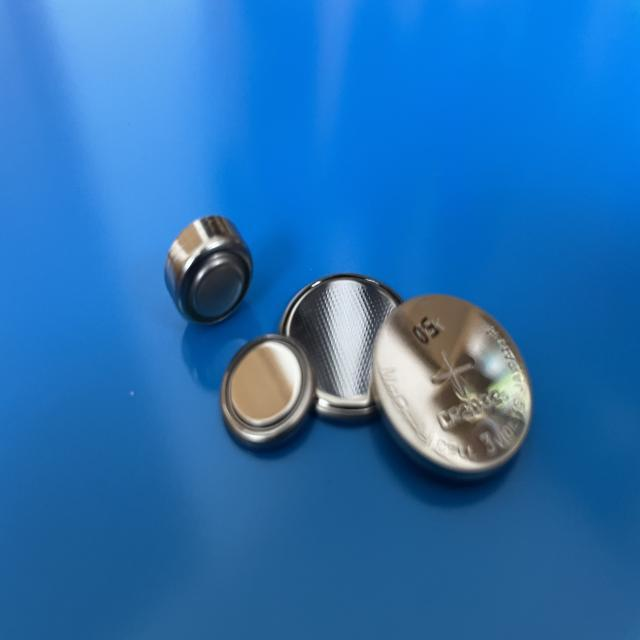COIN: (368, 290, 536, 490), (276, 270, 426, 427), (217, 332, 315, 452), (166, 210, 257, 328)
